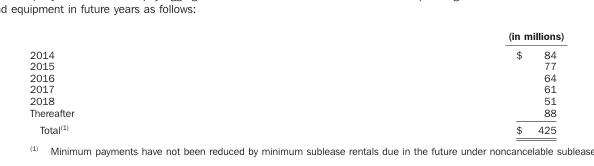table: (28, 29, 563, 134)
table column: (290, 29, 563, 134), (28, 29, 290, 134)
table column header: (28, 29, 563, 44)
table row: (28, 29, 563, 44), (28, 44, 563, 59), (28, 106, 563, 120), (28, 120, 563, 134), (28, 59, 563, 71), (28, 82, 563, 94), (28, 94, 563, 106), (28, 71, 563, 82)
